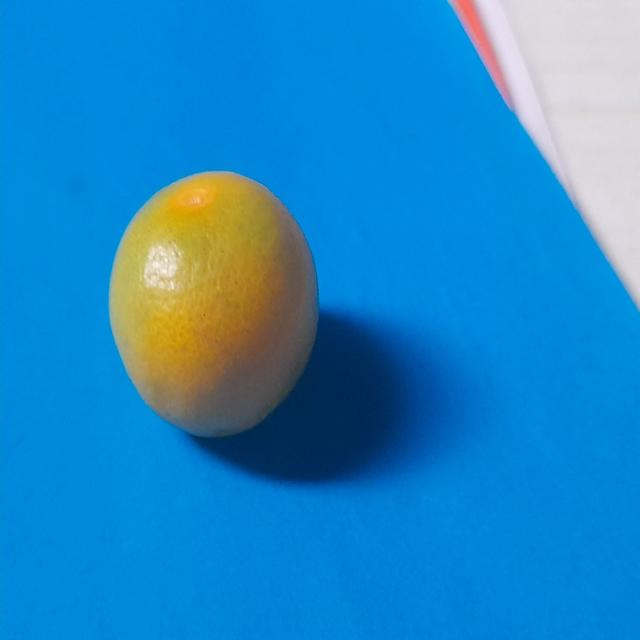greening: (104, 161, 323, 442)
